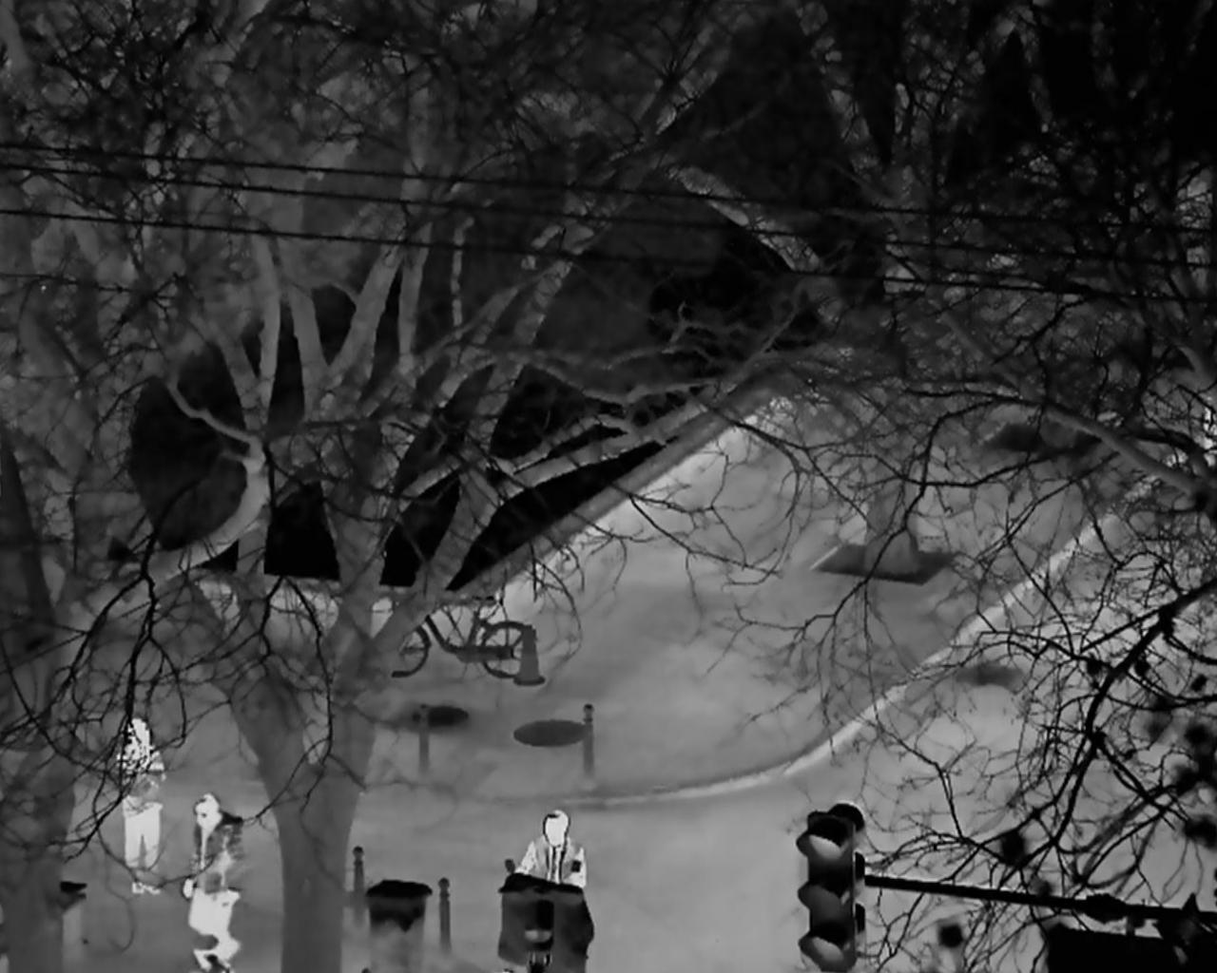person: (115, 715, 173, 899), (184, 793, 242, 973), (515, 806, 587, 892)
